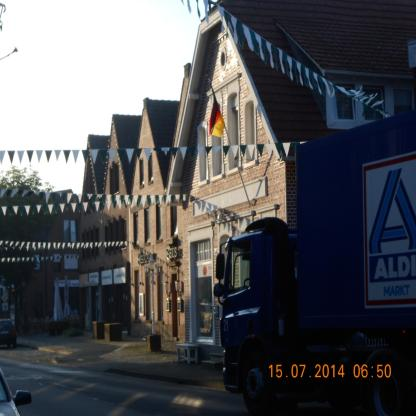Car: (1, 368, 33, 416), (1, 312, 17, 349)
